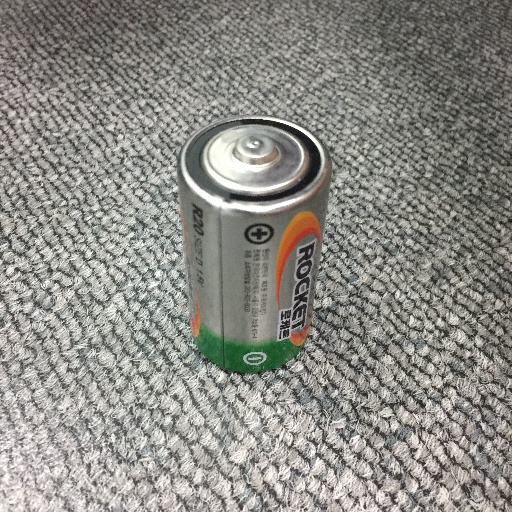Battery_0: (161, 96, 346, 391)
